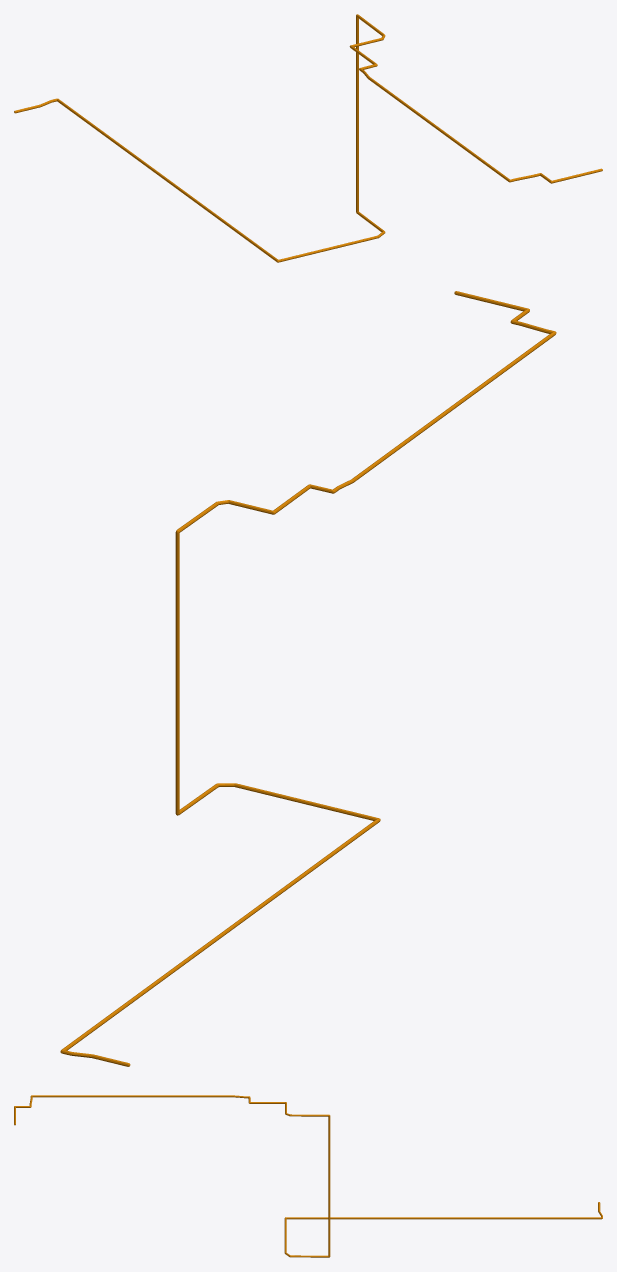
3 renders of one model, top to bottom at view 1: azimuth 30°, elevation 25°; view 2: azimuth 150°, elevation 25°; view 3: azimuth 270°, elevation 25°, orthographic. The views are drawn at different scales.
Bounding box in the file's own units: 1447 × 1520 × 5681.
